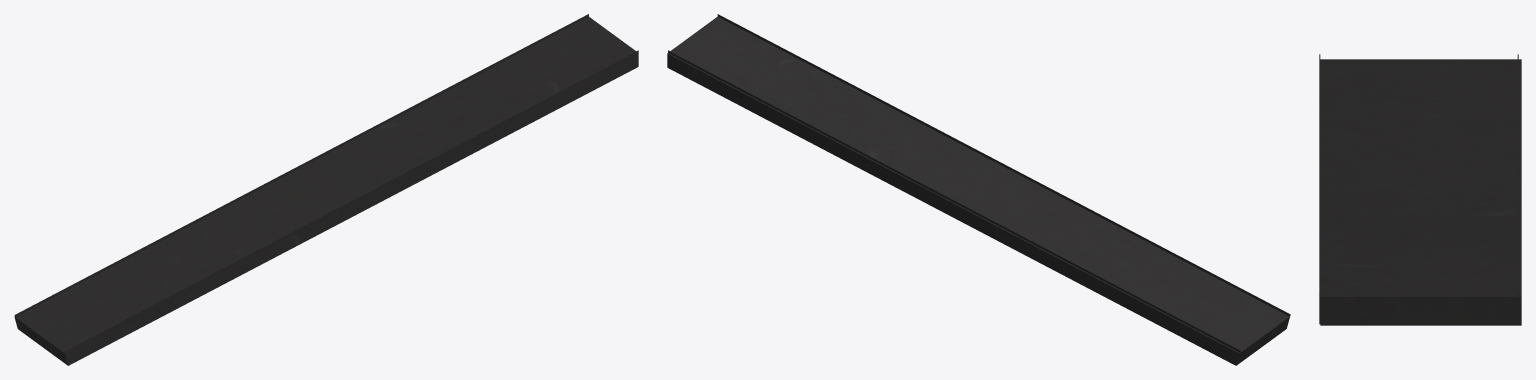
Rendered from Roof 6m cuted.fbx.
The picture shows the model from 3 angles, left to right: view 1: azimuth 30°, elevation 25°; view 2: azimuth 150°, elevation 25°; view 3: azimuth 270°, elevation 25°; orthographic projection. The views are drawn at different scales.
Visible parts, largest first — view 1: Model; view 2: Model; view 3: Model.
Part boxes in pixels (box(x1,y1,x2,y2)): Model: box(14, 14, 638, 365); Model: box(667, 14, 1290, 365); Model: box(1319, 54, 1521, 325).
Bounding box in the file's own units: 6535 × 1920 × 1000.
